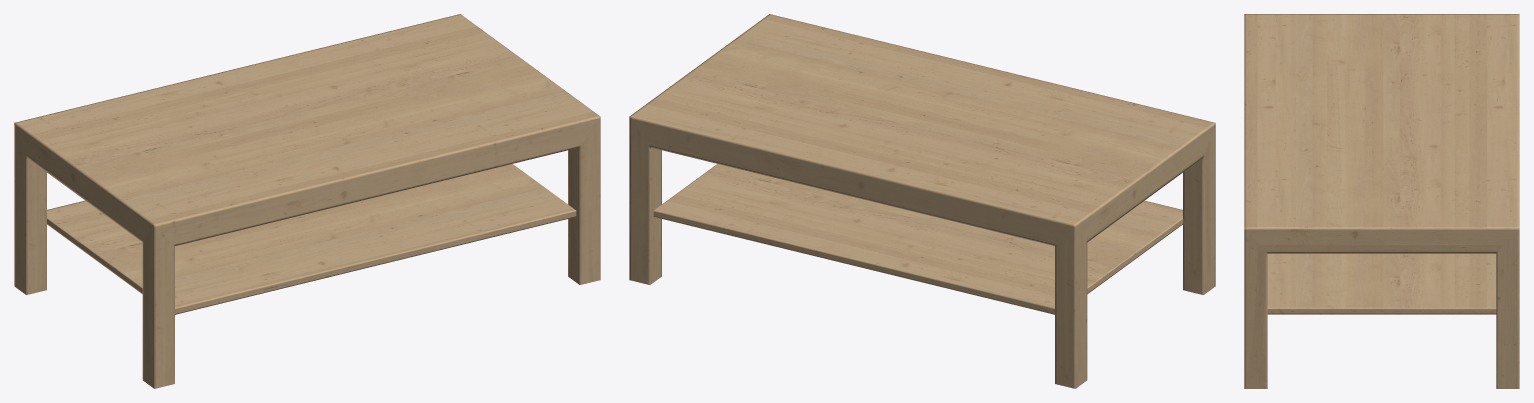
File: CoffeeTable4.fbx
3 renders of one model, left to right at view 1: azimuth 30°, elevation 25°; view 2: azimuth 150°, elevation 25°; view 3: azimuth 270°, elevation 25°, orthographic.
Visible parts, largest first — view 1: SM_CoffeeTable4_01; view 2: SM_CoffeeTable4_01; view 3: SM_CoffeeTable4_01.
Boxes of the visible parts, x1,y1,x2,y2 form: SM_CoffeeTable4_01: (14, 14, 600, 388); SM_CoffeeTable4_01: (629, 14, 1215, 388); SM_CoffeeTable4_01: (1244, 14, 1519, 388).
Bounding box in the file's own units: 108 × 37.88 × 58.73.
